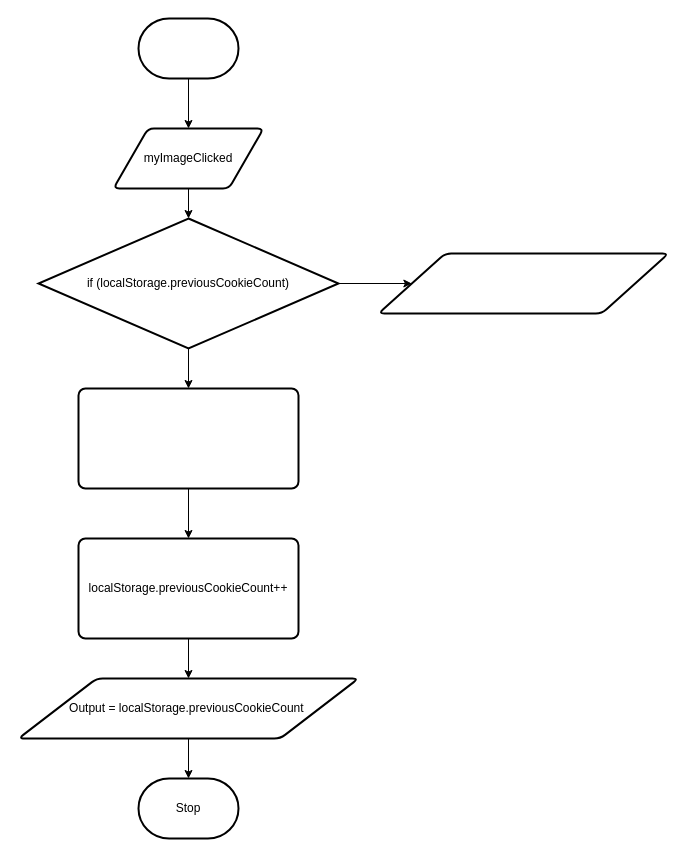
This 686x856 diagram has some shape labels left out. The centre of each missing label's shape, as x and y in pixels:
localStorage.previousCookieCount = 0: the point at 188,438
print "<p> Cookie Counter: " + localStorage.previousCookieCount + ". </p>": the point at 523,283
Start: the point at 188,48
